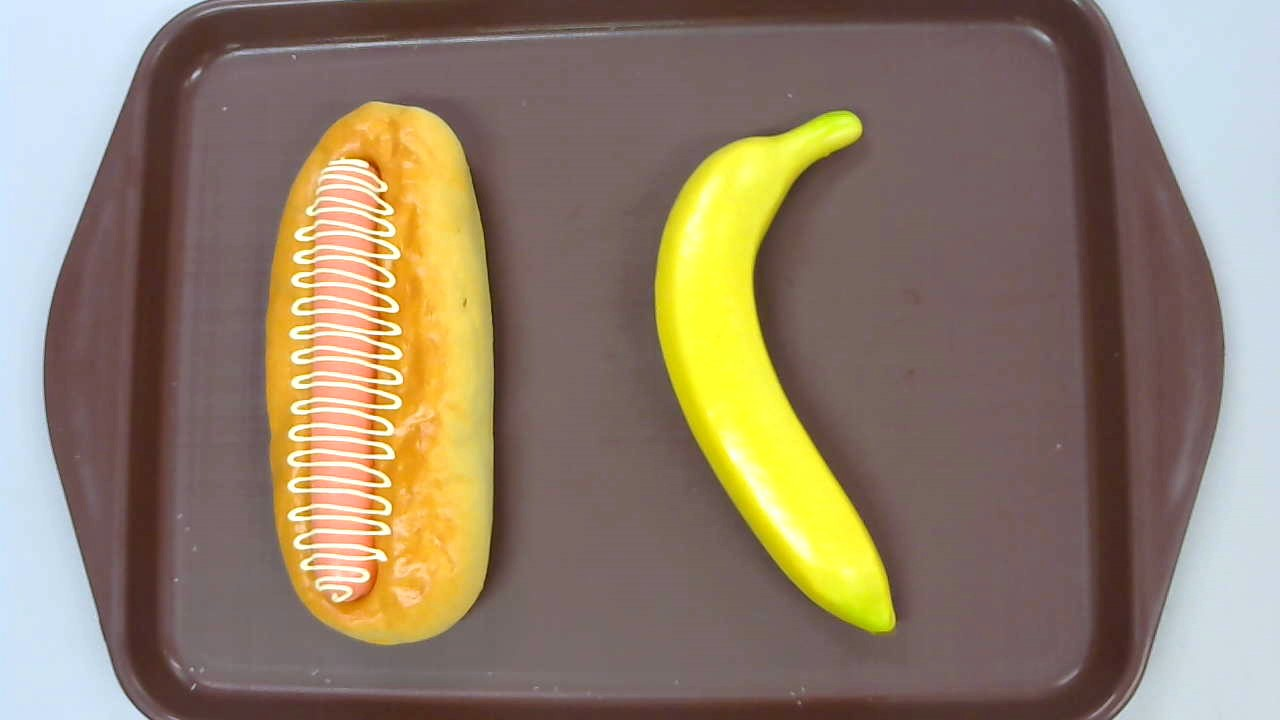banana: (654, 109, 897, 636)
hot dog: (263, 101, 494, 647)
